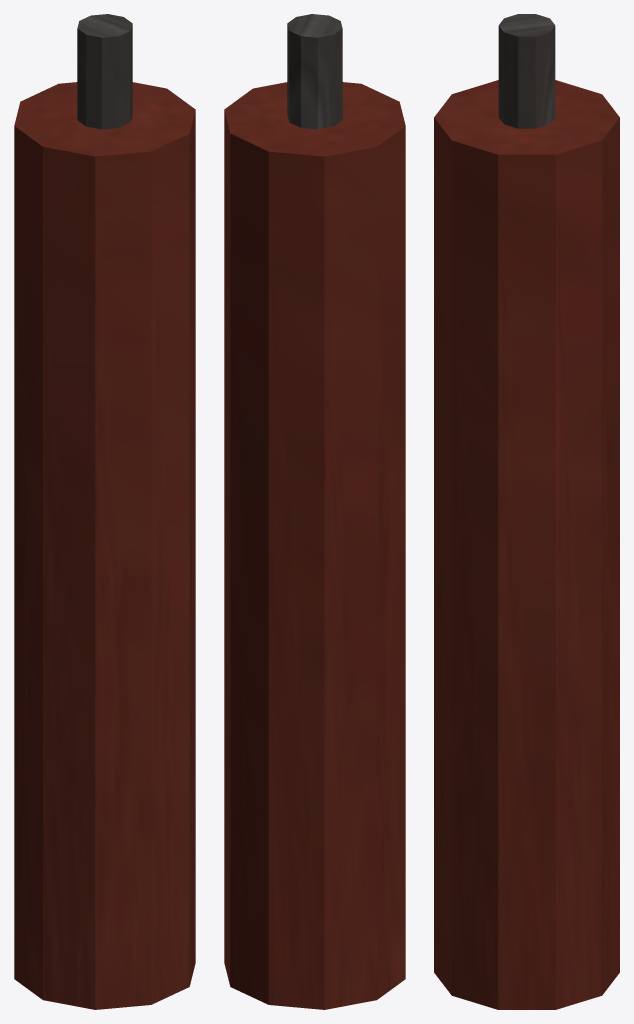
The model's file is flare.fbx.
3 renders of one model, left to right at view 1: azimuth 30°, elevation 25°; view 2: azimuth 150°, elevation 25°; view 3: azimuth 270°, elevation 25°, orthographic.
Visible parts, largest first — view 1: flare; view 2: flare; view 3: flare.
Boxes of the visible parts, bbox=[...] form: flare: bbox=[14, 14, 195, 1009]; flare: bbox=[224, 14, 405, 1009]; flare: bbox=[434, 14, 619, 1009].
Bounding box in the file's own units: 88.74 × 525 × 93.31.
Materials: 1 (1 with a texture image).
